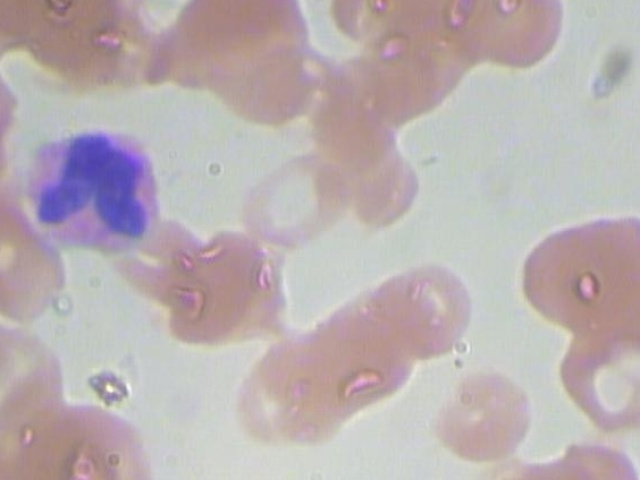RBC: (515, 205, 640, 328), (240, 146, 358, 250), (208, 27, 326, 131), (224, 334, 342, 437), (423, 364, 540, 464), (381, 257, 479, 355), (449, 0, 567, 80), (552, 325, 640, 430), (0, 234, 75, 327), (545, 435, 640, 480)
WBC: (9, 122, 174, 253)
